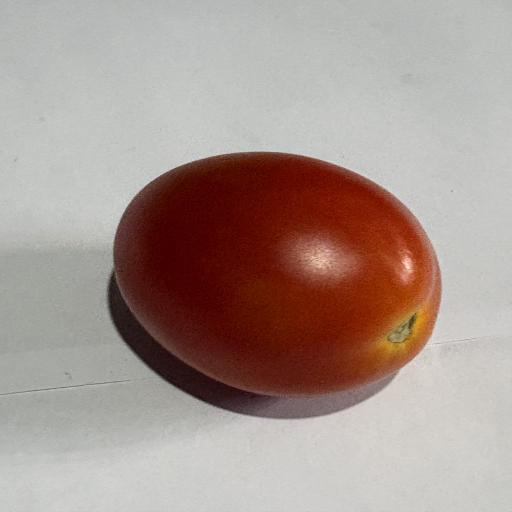ripe: (114, 152, 440, 396)
